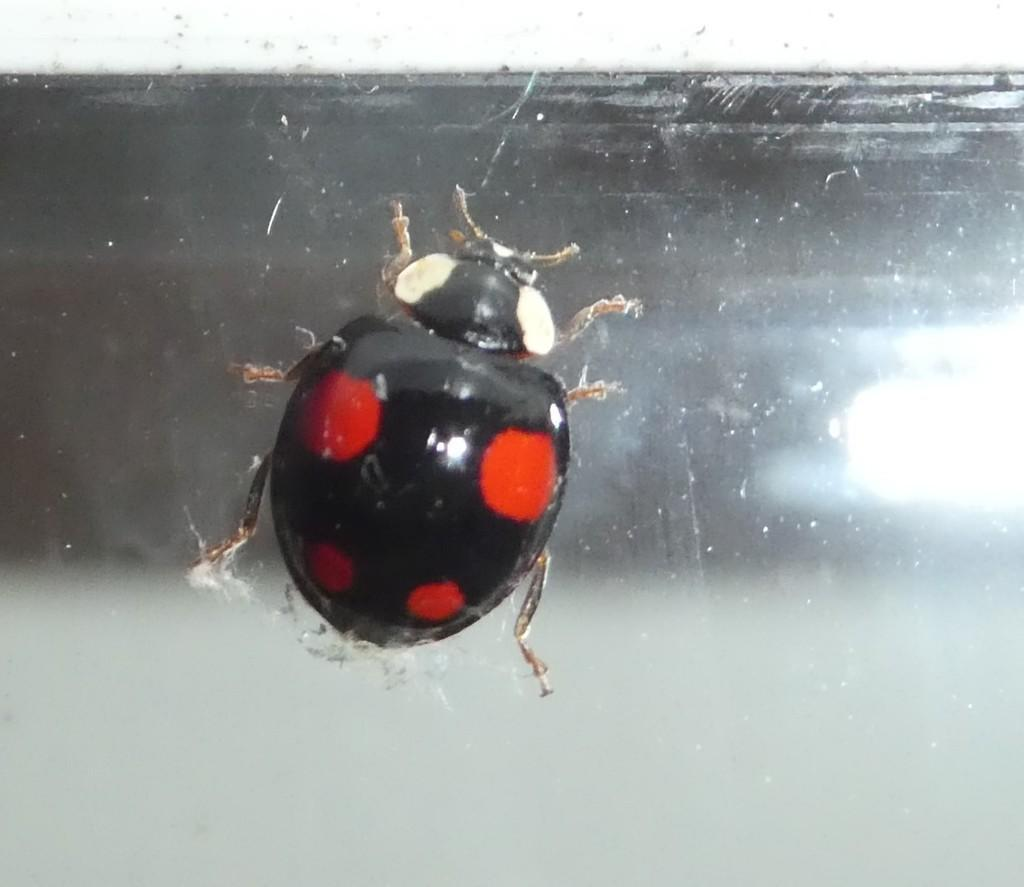ladybug: (186, 179, 646, 701)
